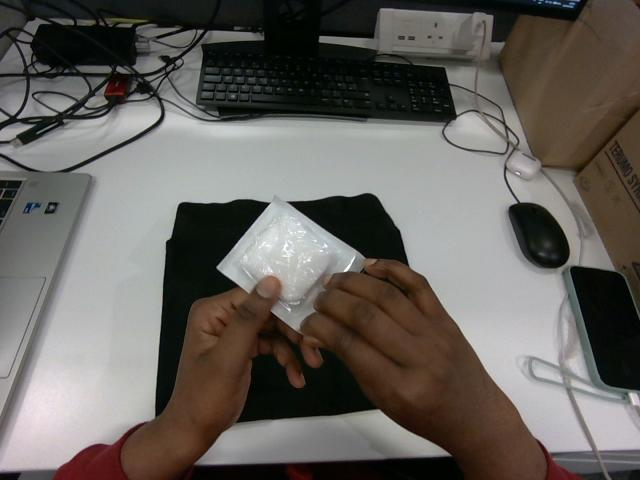gauze: (217, 197, 363, 329)
